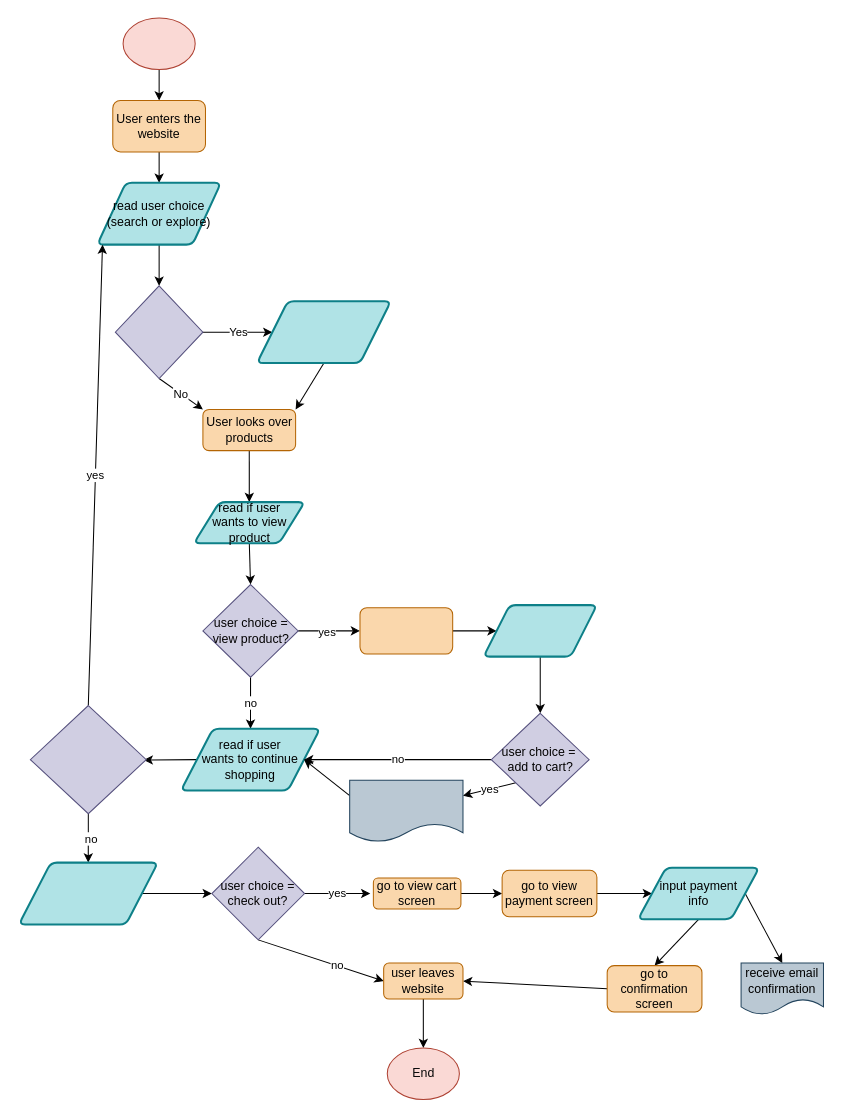
The diagram is 842 pixels wide and 1118 high, and some of its shapes have lost their labels. The shapes that lost their labels are listed below. From the top down, each one's box as (x1, y1, x2, y2) in pixels, then its label:
(122, 17, 195, 70): Start
(114, 285, 203, 379): user choice = search?
(255, 300, 391, 364): read user search input
(359, 607, 453, 654): product webpage open
(482, 604, 597, 657): read user choice to add to cart
(29, 705, 146, 814): user choice = continue shopping?
(349, 779, 463, 842): receive added to cart confirmation
(17, 861, 158, 925): read if user wants to check out
